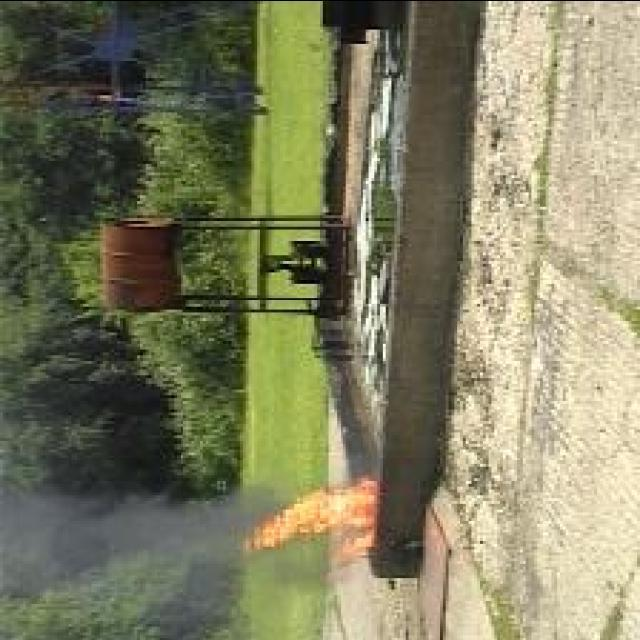Fire: (247, 476, 379, 562)
